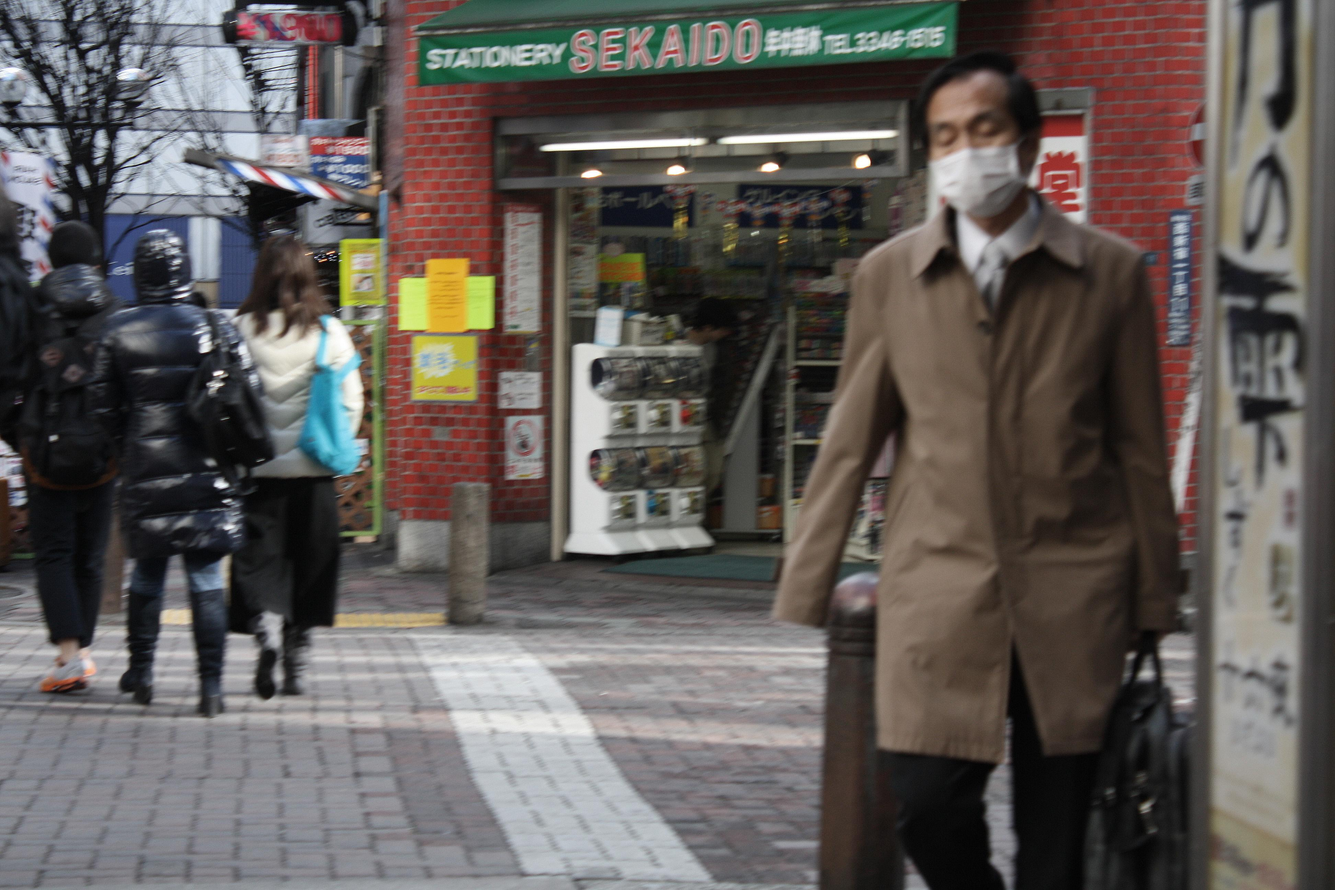OK: (932, 111, 1025, 204)
